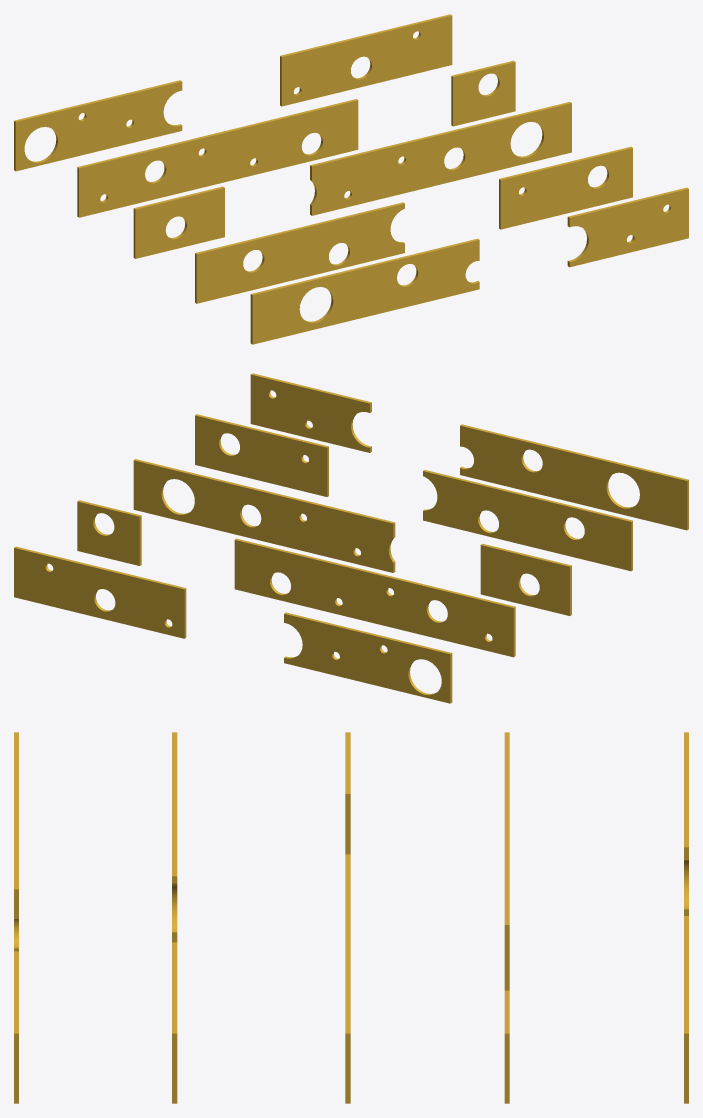
The model's file is det_place_6.FBX.
3 renders of one model, top to bottom at view 1: azimuth 30°, elevation 25°; view 2: azimuth 150°, elevation 25°; view 3: azimuth 270°, elevation 25°, orthographic. The views are drawn at different scales.
Visible parts, largest first — view 1: det_place_6; view 2: det_place_6; view 3: det_place_6.
Boxes of the visible parts, box(x1,y1,x2,y2) form: det_place_6: box(14, 14, 688, 344); det_place_6: box(14, 373, 688, 703); det_place_6: box(14, 732, 688, 1103).
Size of the model in its own units: 13.86 by 1.5 by 13.12.
